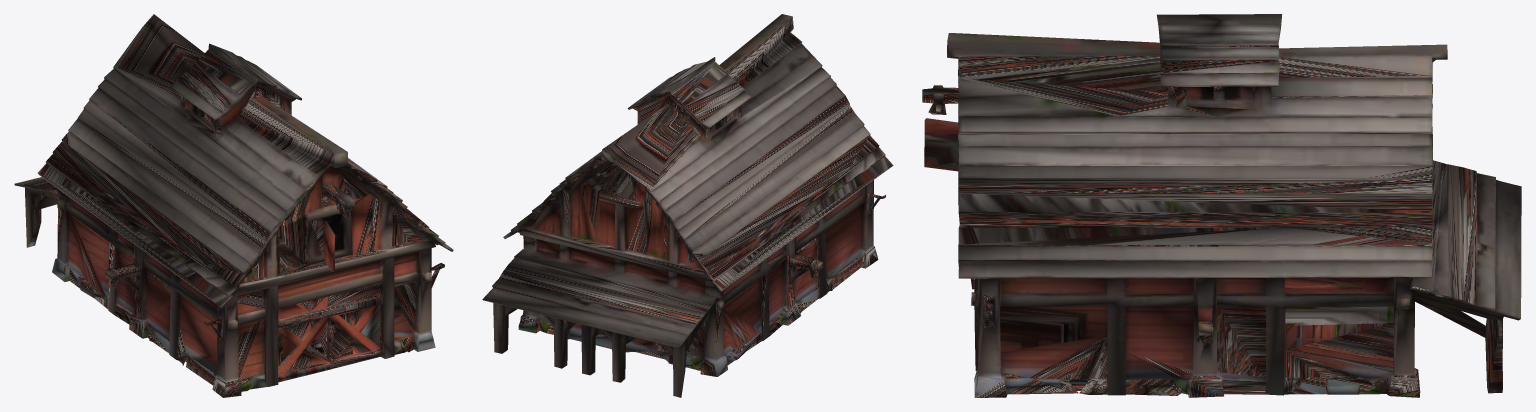
Rendered from barn-a.glb.
3 renders of one model, left to right at view 1: azimuth 30°, elevation 25°; view 2: azimuth 150°, elevation 25°; view 3: azimuth 270°, elevation 25°, orthographic. The views are drawn at different scales.
Parts seen in each view (by area): view 1: node_0; view 2: node_0; view 3: node_0.
Part boxes in pixels (box(x1,y1,x2,y2)): node_0: box(14, 14, 453, 397); node_0: box(482, 14, 893, 397); node_0: box(922, 14, 1521, 397).
Bounding box in the file's own units: 7.99 × 6.99 × 11.98.
1 material, 1 textured.
